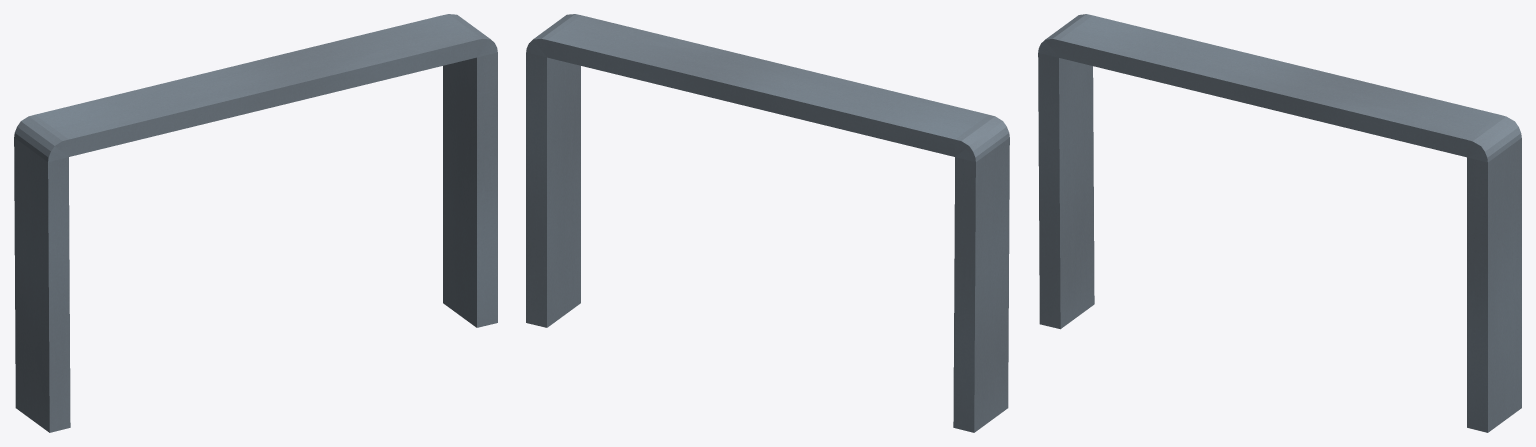
File: gate.gltf
3 renders of one model, left to right at view 1: azimuth 30°, elevation 25°; view 2: azimuth 150°, elevation 25°; view 3: azimuth 330°, elevation 25°, orthographic.
Parts seen in each view (by area): view 1: Frame; view 2: Frame; view 3: Frame.
Boxes of the visible parts, x1,y1,x2,y2 form: Frame: [14, 14, 497, 432]; Frame: [526, 14, 1009, 432]; Frame: [1038, 14, 1521, 432].
Size of the model in its own units: 5.42 by 3.32 by 0.7083.
Materials: 1 (1 with a texture image).
